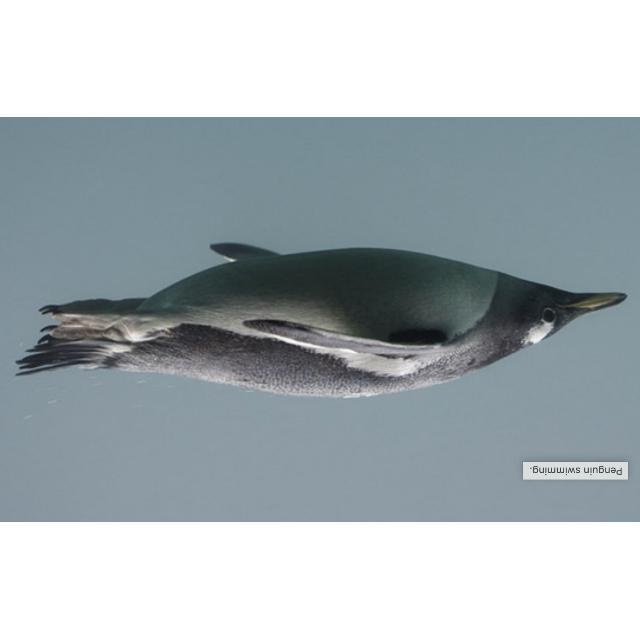penguin: (16, 241, 628, 398)
